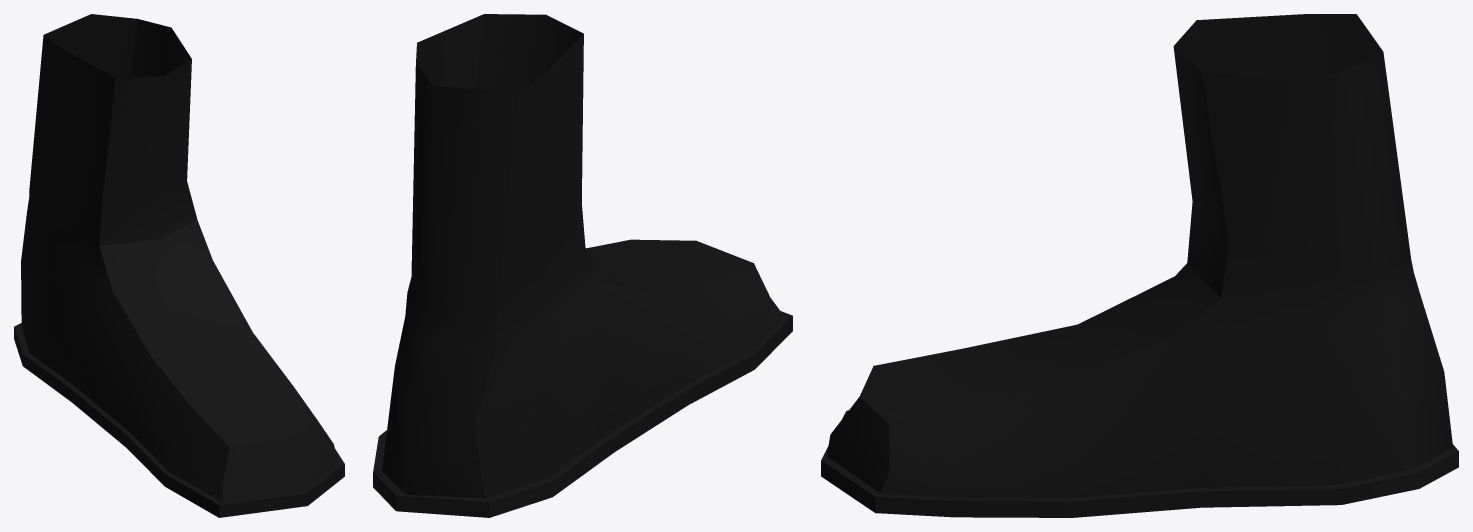
File: ninjaShoe_L.fbx
3 renders of one model, left to right at view 1: azimuth 30°, elevation 25°; view 2: azimuth 150°, elevation 25°; view 3: azimuth 270°, elevation 25°, orthographic. The views are drawn at different scales.
Parts seen in each view (by area): view 1: polySurface15; view 2: polySurface15; view 3: polySurface15.
Part boxes in pixels (x1,y1,x2,y2): polySurface15: (14,14,344,517); polySurface15: (373,14,792,517); polySurface15: (821,14,1458,517).
Bounding box in the file's own units: 11.61 × 21.95 × 29.67.
Materials: 1 (1 with a texture image).
